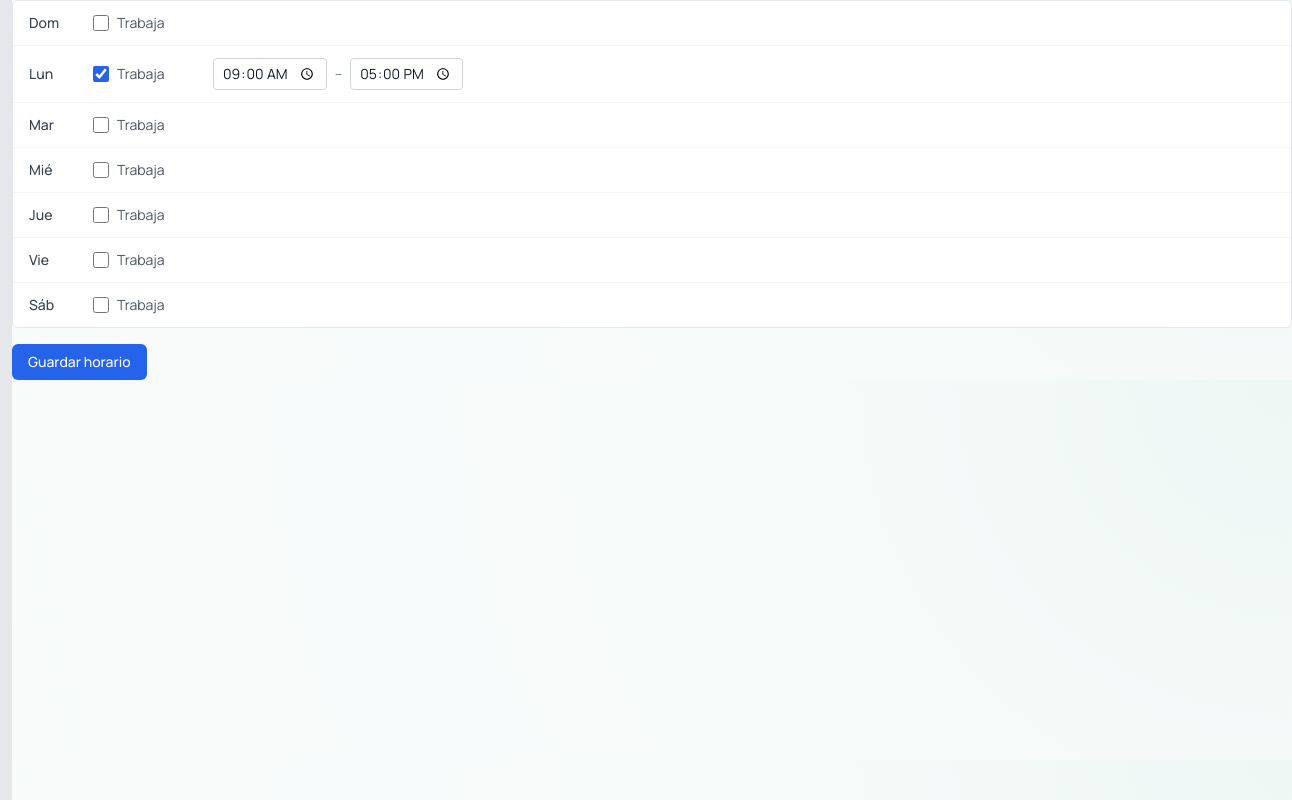
WeeklyScheduleEditor › shows validation error for invalid time range
The width and height of the screenshot is (1292, 800).
Replace the text in the time field named "Hora de inicio" with "20:00" at (270, 74), box [213,58,327,90]
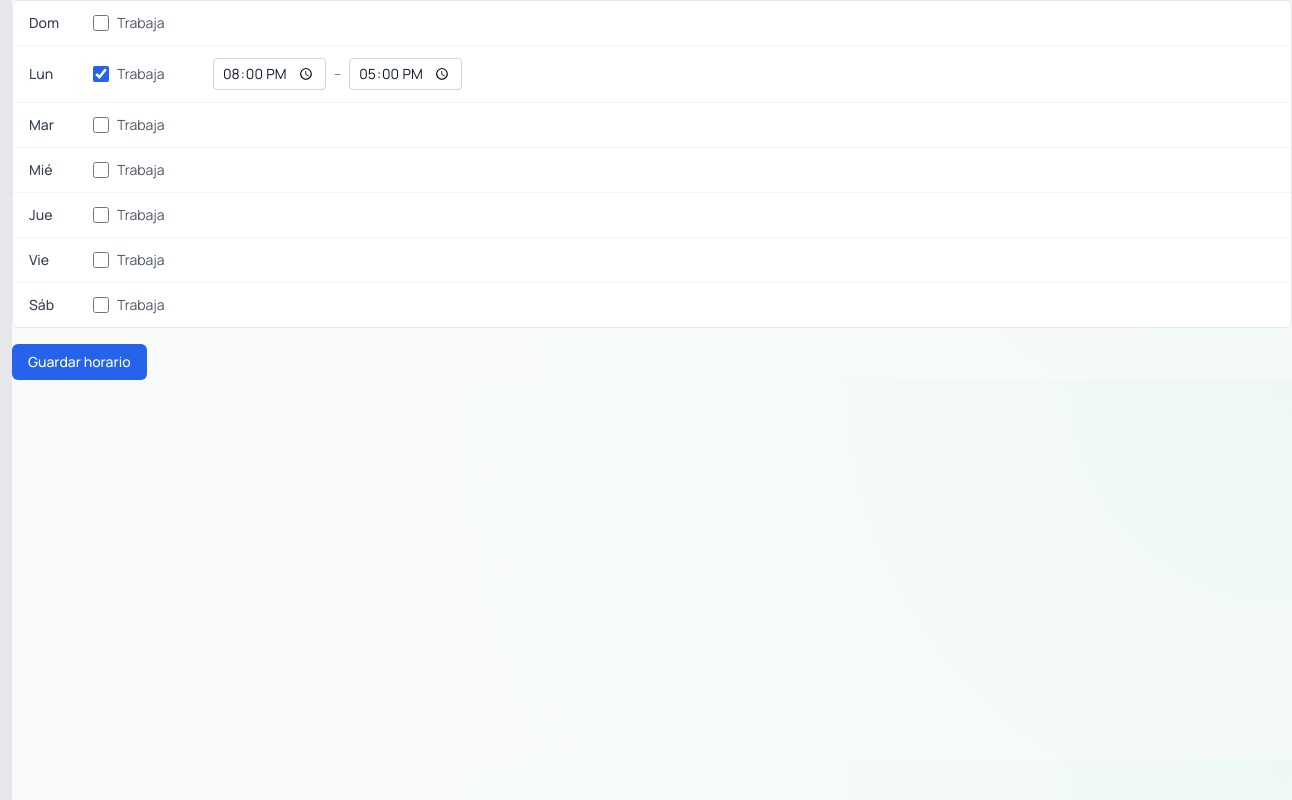
Click the button "Guardar horario".
click(79, 362)  # box [12,344,147,380]
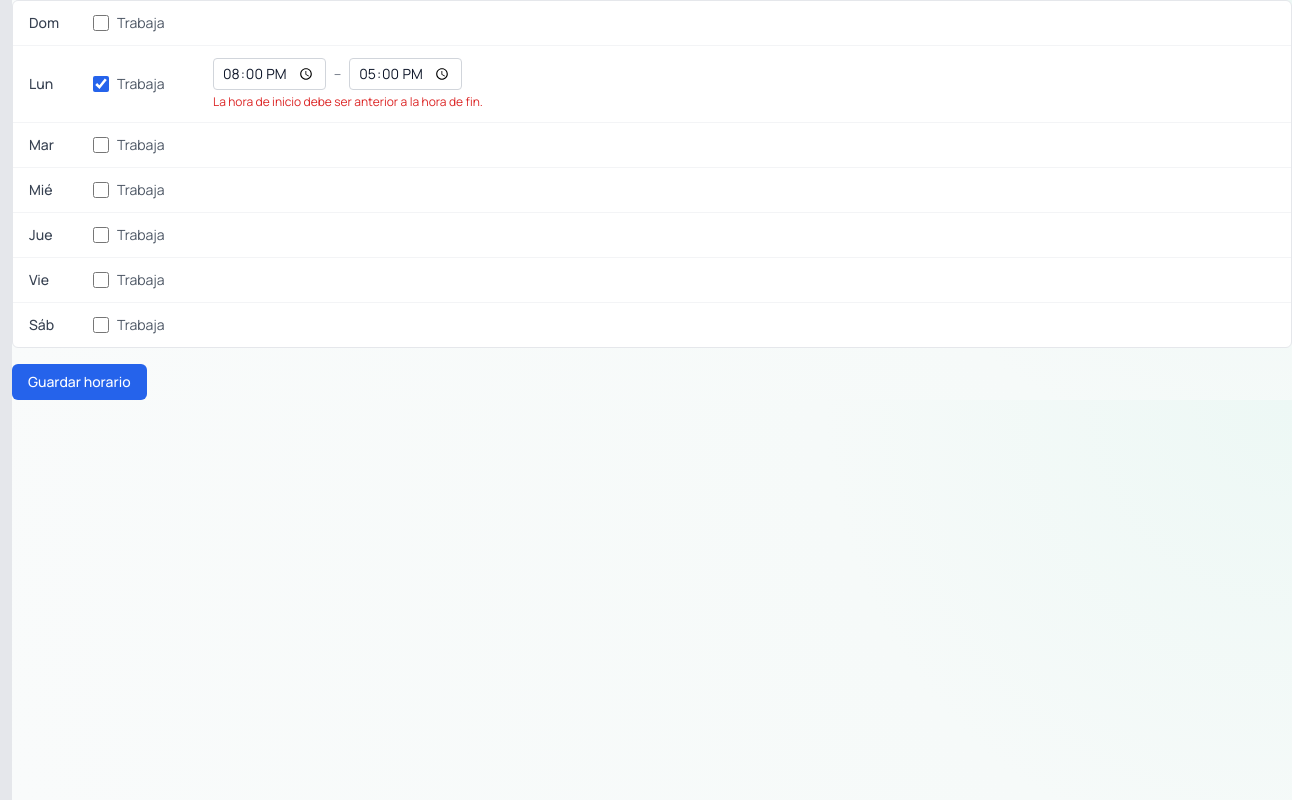
Now the text "La hora de inicio debe ser anterior a la hora de fin." is shown, box [213,94,483,110]
